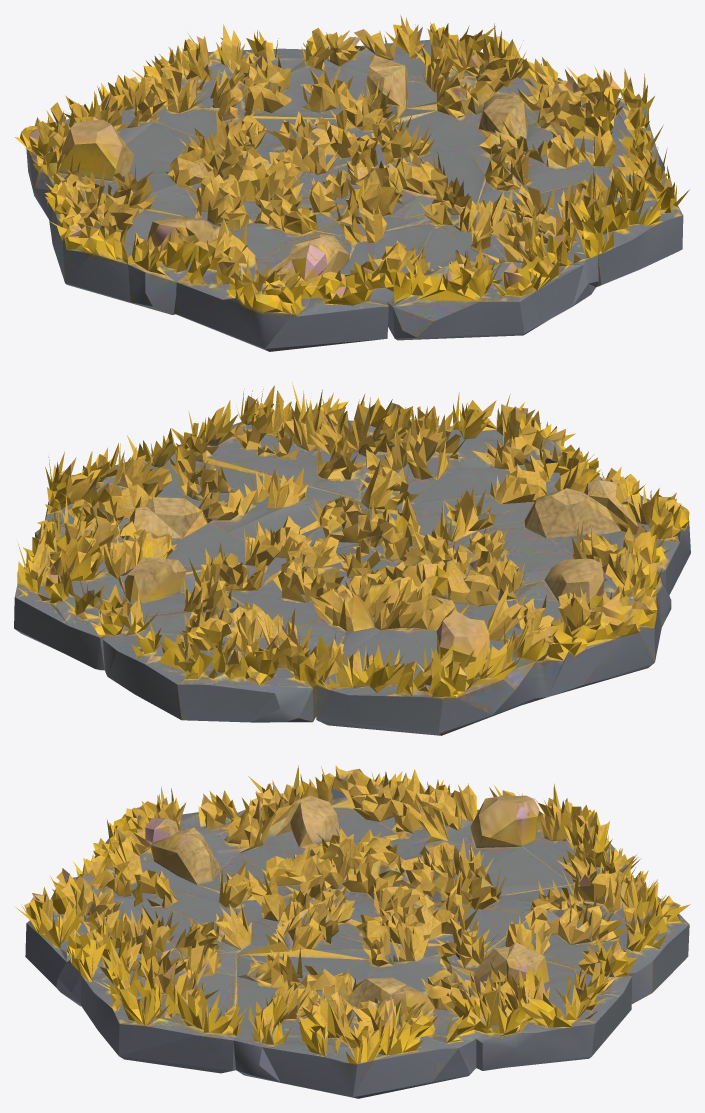
Rendered from prateria.glb.
3 renders of one model, top to bottom at view 1: azimuth 30°, elevation 25°; view 2: azimuth 150°, elevation 25°; view 3: azimuth 270°, elevation 25°, orthographic. The views are drawn at different scales.
Bounding box in the file's own units: 1.85 × 0.2642 × 1.88.
1 material, 1 textured.
